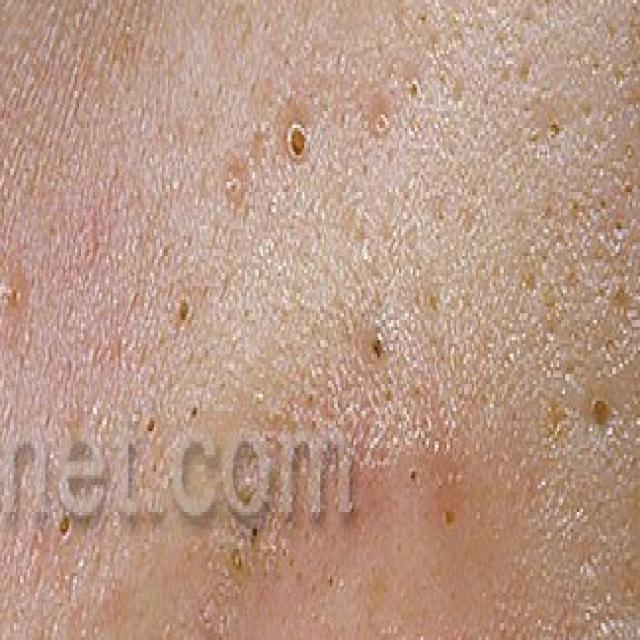blackhead: (286, 120, 310, 161), (588, 392, 613, 430), (177, 295, 194, 329), (370, 334, 386, 364), (57, 511, 72, 540), (144, 412, 158, 442), (188, 398, 201, 428), (230, 547, 244, 573), (444, 505, 457, 533), (386, 370, 396, 404), (406, 77, 422, 97), (525, 268, 537, 294), (604, 336, 616, 359), (623, 173, 634, 198), (428, 290, 441, 311), (571, 196, 583, 217), (549, 120, 560, 142), (521, 62, 532, 84), (614, 215, 624, 238), (598, 193, 608, 216), (414, 380, 424, 403), (249, 523, 261, 542), (568, 269, 578, 290), (540, 248, 550, 268), (409, 465, 418, 487), (413, 288, 422, 309), (436, 208, 447, 223), (545, 203, 553, 222), (327, 573, 335, 591), (592, 58, 600, 74), (303, 529, 310, 543), (311, 418, 318, 432), (281, 546, 289, 558), (287, 556, 294, 569), (151, 461, 158, 474), (308, 391, 314, 406), (419, 13, 426, 24)
